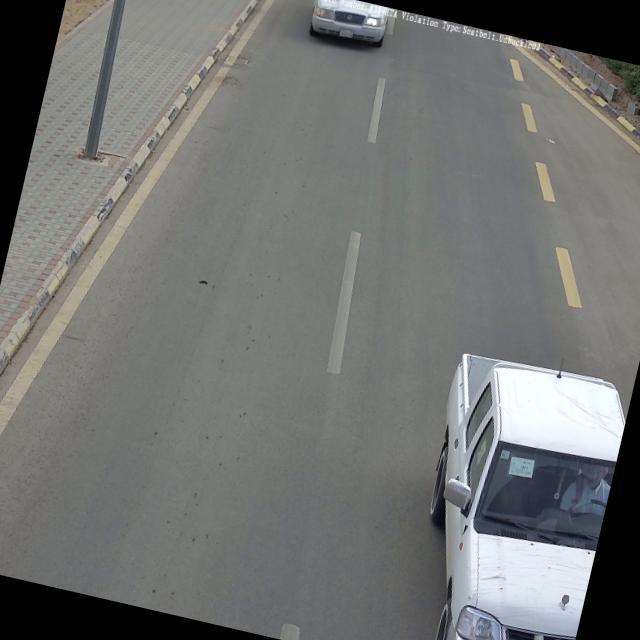person_without_seatbelt: (559, 458, 614, 522)
